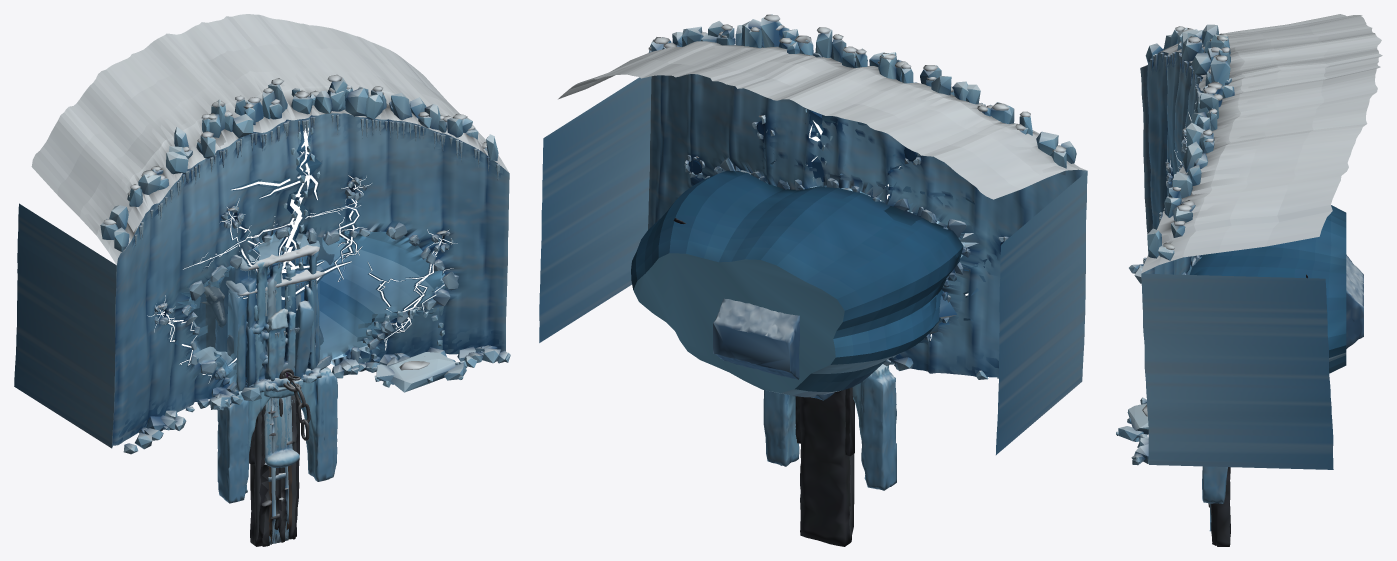
The model's file is gravewyrm_sanctum_kit.glb.
3 renders of one model, left to right at view 1: azimuth 30°, elevation 25°; view 2: azimuth 150°, elevation 25°; view 3: azimuth 270°, elevation 25°, orthographic. The views are drawn at different scales.
Parts seen in each view (by area): view 1: Kit_CalvingFace, Kit_FaceCalved, Kit_IceBridge, Kit_GlacierWallA, Kit_RockCliff, Kit_GlacierWallB, Kit_FaceCrack_3, Kit_FacePlateFallen, Kit_FrozenFall, Kit_SeracL, Kit_FaceCrack_1, Kit_WyrmSilhouette (+2 smaller); view 2: Kit_CalvingFace, Kit_FaceCalved, Kit_RockCliff, Kit_IceBridge, Kit_IceFall, Kit_FrozenFall; view 3: Kit_CalvingFace, Kit_FaceCalved, Kit_IceFall, Kit_RockCliff, Kit_IceBridge, Kit_FacePlateFallen.
Part boxes in pixels (bbox=[...]): Kit_CalvingFace: bbox=[14, 14, 509, 454]; Kit_FaceCalved: bbox=[14, 14, 510, 446]; Kit_IceBridge: bbox=[217, 367, 337, 503]; Kit_GlacierWallA: bbox=[215, 233, 321, 392]; Kit_RockCliff: bbox=[250, 395, 300, 546]; Kit_GlacierWallB: bbox=[215, 266, 324, 391]; Kit_FaceCrack_3: bbox=[228, 127, 351, 366]; Kit_FacePlateFallen: bbox=[374, 352, 467, 392]; Kit_FrozenFall: bbox=[249, 396, 299, 467]; Kit_SeracL: bbox=[265, 308, 310, 390]; Kit_FaceCrack_1: bbox=[357, 261, 453, 362]; Kit_WyrmSilhouette: bbox=[201, 234, 334, 366]; Kit_CalvingFace: bbox=[539, 25, 1087, 453]; Kit_FaceCalved: bbox=[539, 14, 1087, 454]; Kit_RockCliff: bbox=[800, 389, 854, 546]; Kit_IceBridge: bbox=[763, 364, 896, 490]; Kit_IceFall: bbox=[713, 298, 834, 400]; Kit_FrozenFall: bbox=[795, 387, 854, 456]; Kit_CalvingFace: bbox=[1129, 14, 1382, 463]; Kit_FaceCalved: bbox=[1132, 14, 1378, 469]; Kit_IceFall: bbox=[1346, 254, 1363, 348]; Kit_RockCliff: bbox=[1208, 467, 1230, 546]; Kit_IceBridge: bbox=[1202, 466, 1227, 503]; Kit_FacePlateFallen: bbox=[1116, 397, 1148, 441].
Bounding box in the file's own units: 168 × 180 × 89.72.
